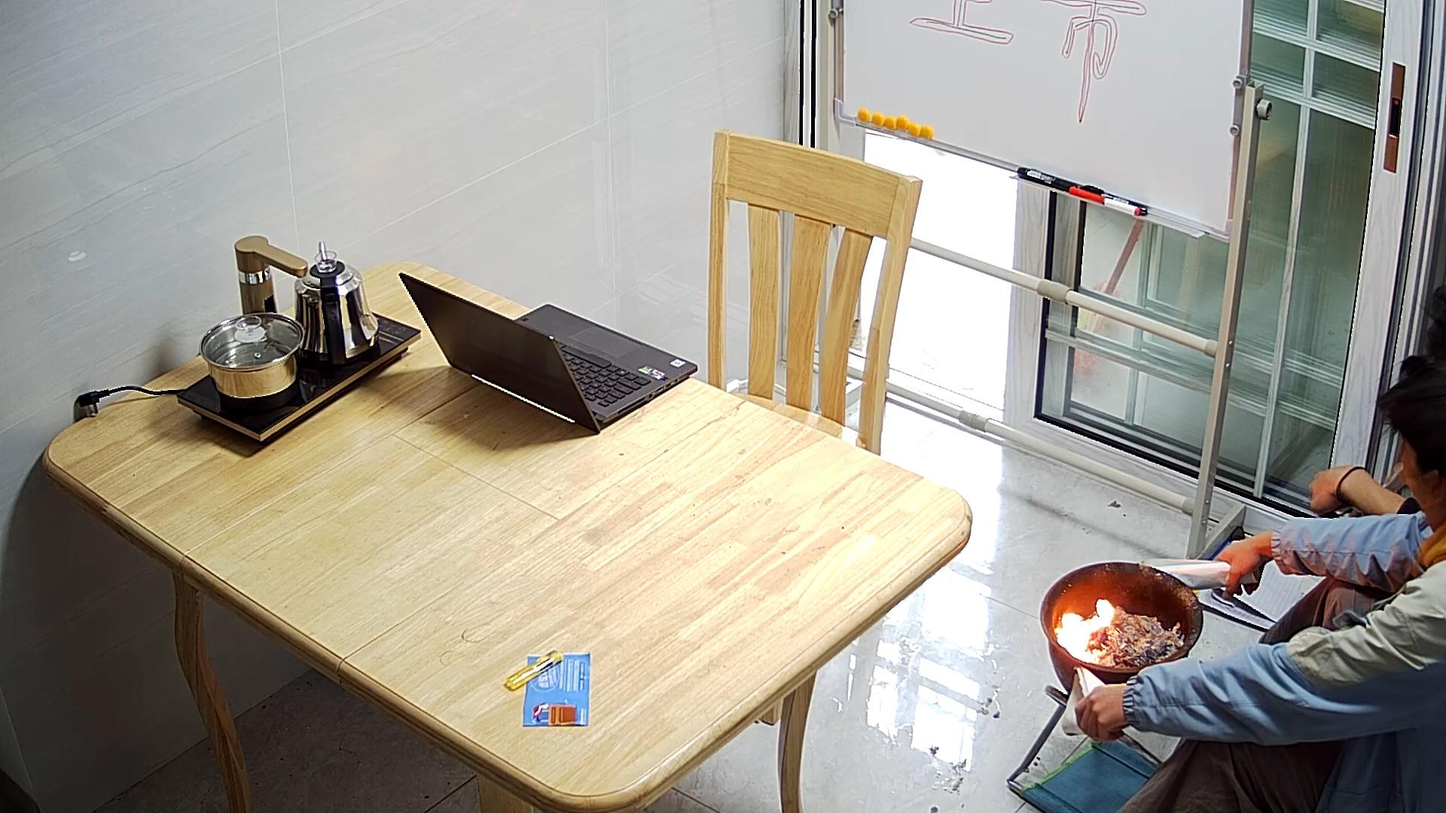fire: (1055, 601, 1115, 662)
